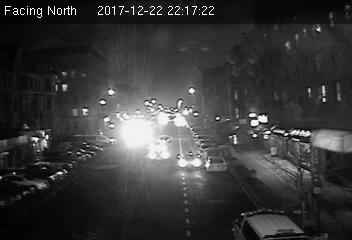car: (176, 152, 202, 169), (205, 155, 229, 173), (146, 148, 171, 162)
